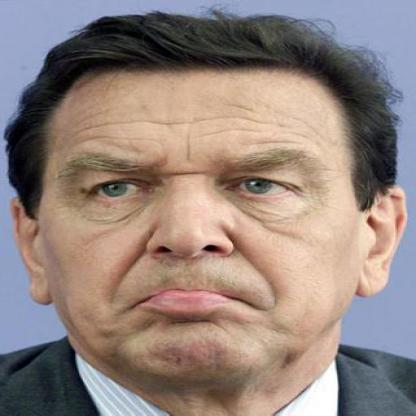face: (35, 21, 373, 389)
